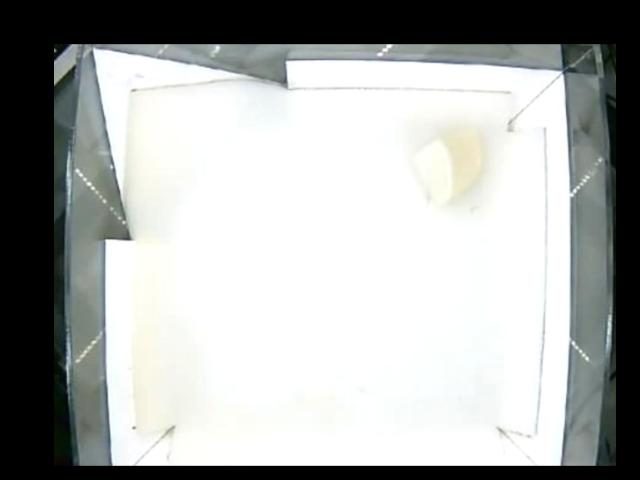Mooli: (413, 125, 483, 204)
